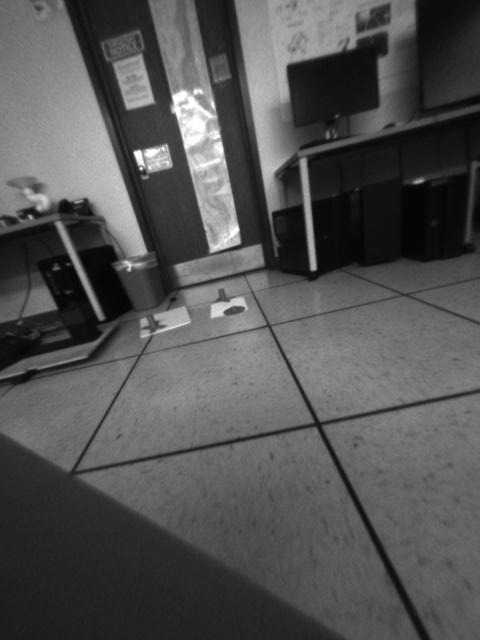X: (138, 313, 167, 333), (211, 285, 231, 302)
